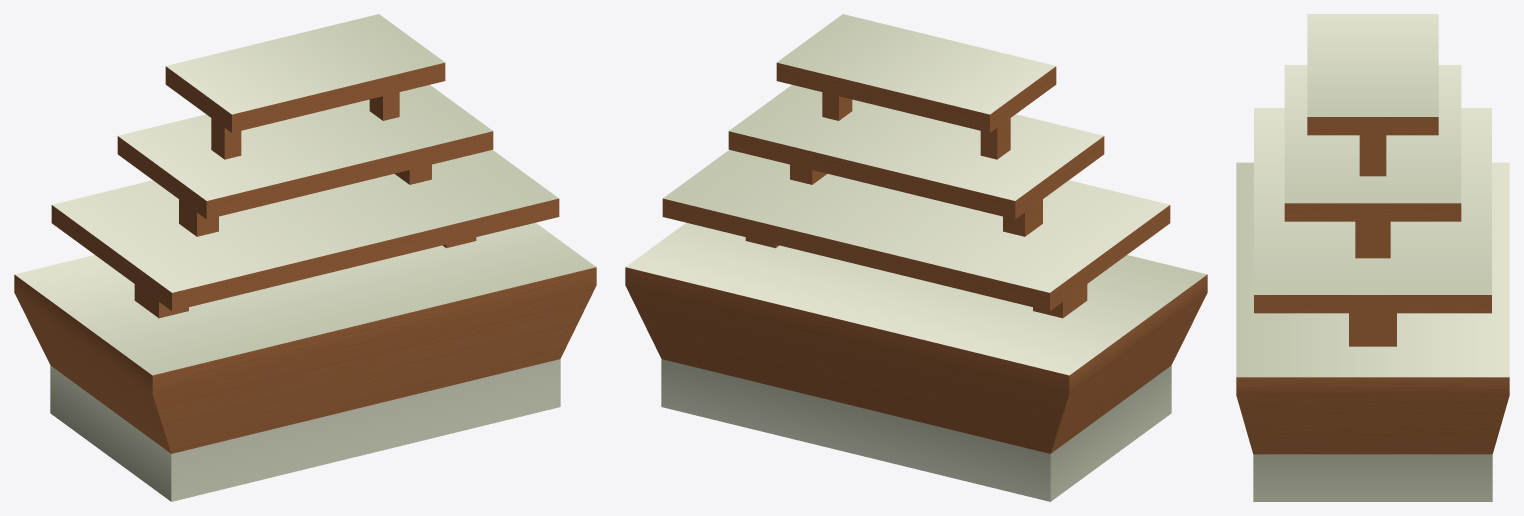
The model's file is Display_A_1.FBX.
3 renders of one model, left to right at view 1: azimuth 30°, elevation 25°; view 2: azimuth 150°, elevation 25°; view 3: azimuth 270°, elevation 25°, orthographic.
Visible parts, largest first — view 1: Display_A; view 2: Display_A; view 3: Display_A.
Part boxes in pixels (bbox=[...]): Display_A: bbox=[14, 14, 596, 501]; Display_A: bbox=[625, 14, 1207, 501]; Display_A: bbox=[1236, 14, 1509, 501].
Size of the model in its own units: 371 by 276 by 200.
